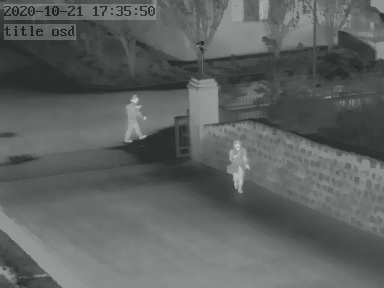person: (227, 138, 249, 192), (121, 95, 145, 140)
